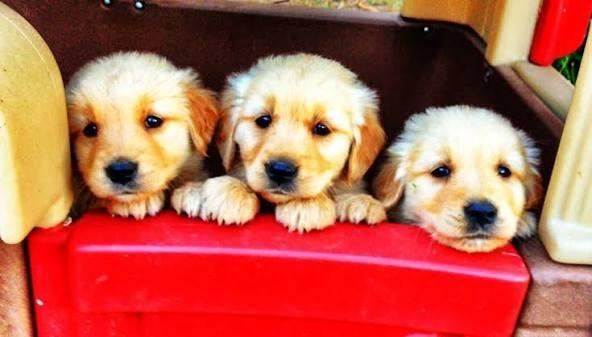puppy-dog: (204, 50, 388, 232), (43, 49, 220, 228), (370, 104, 542, 252)
